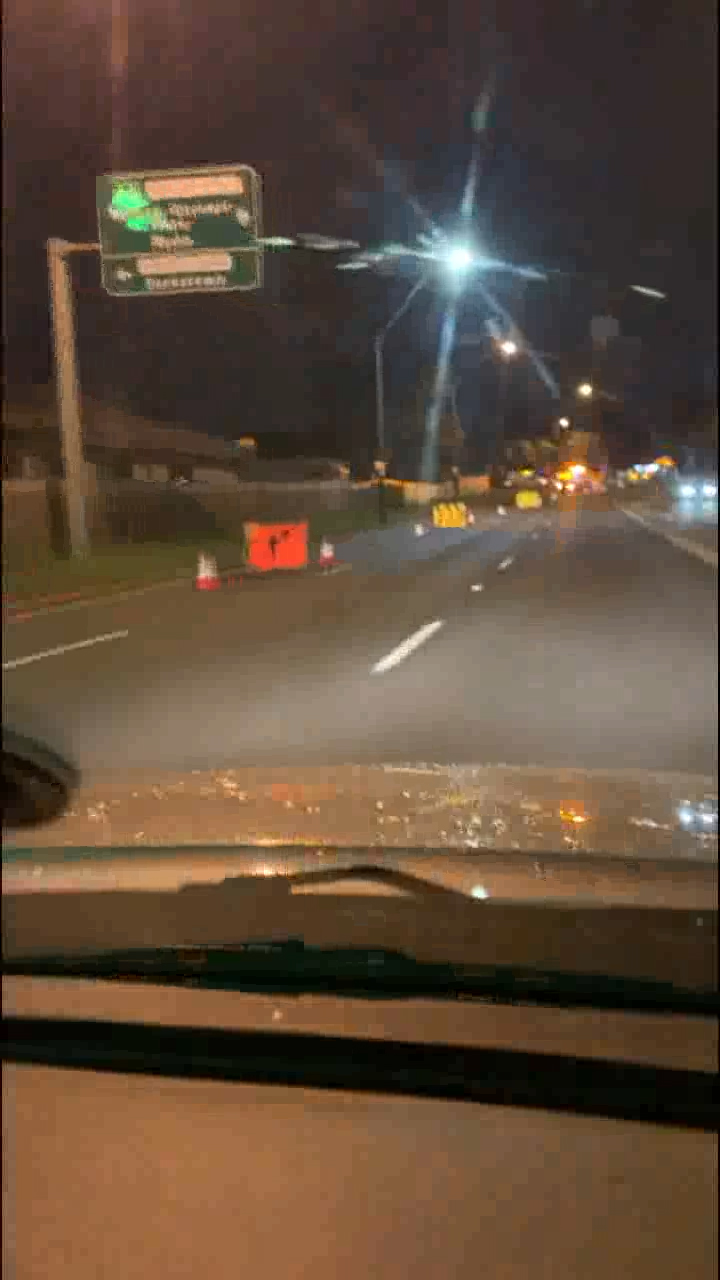road cone: (193, 555, 220, 592)
road works sign board: (245, 529, 312, 569), (433, 504, 468, 527)
